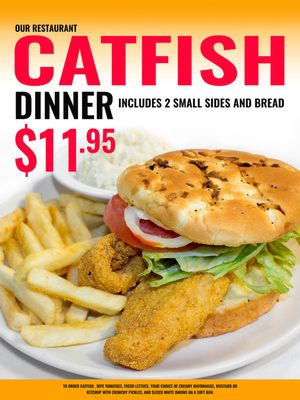soup: (78, 148, 300, 369)
